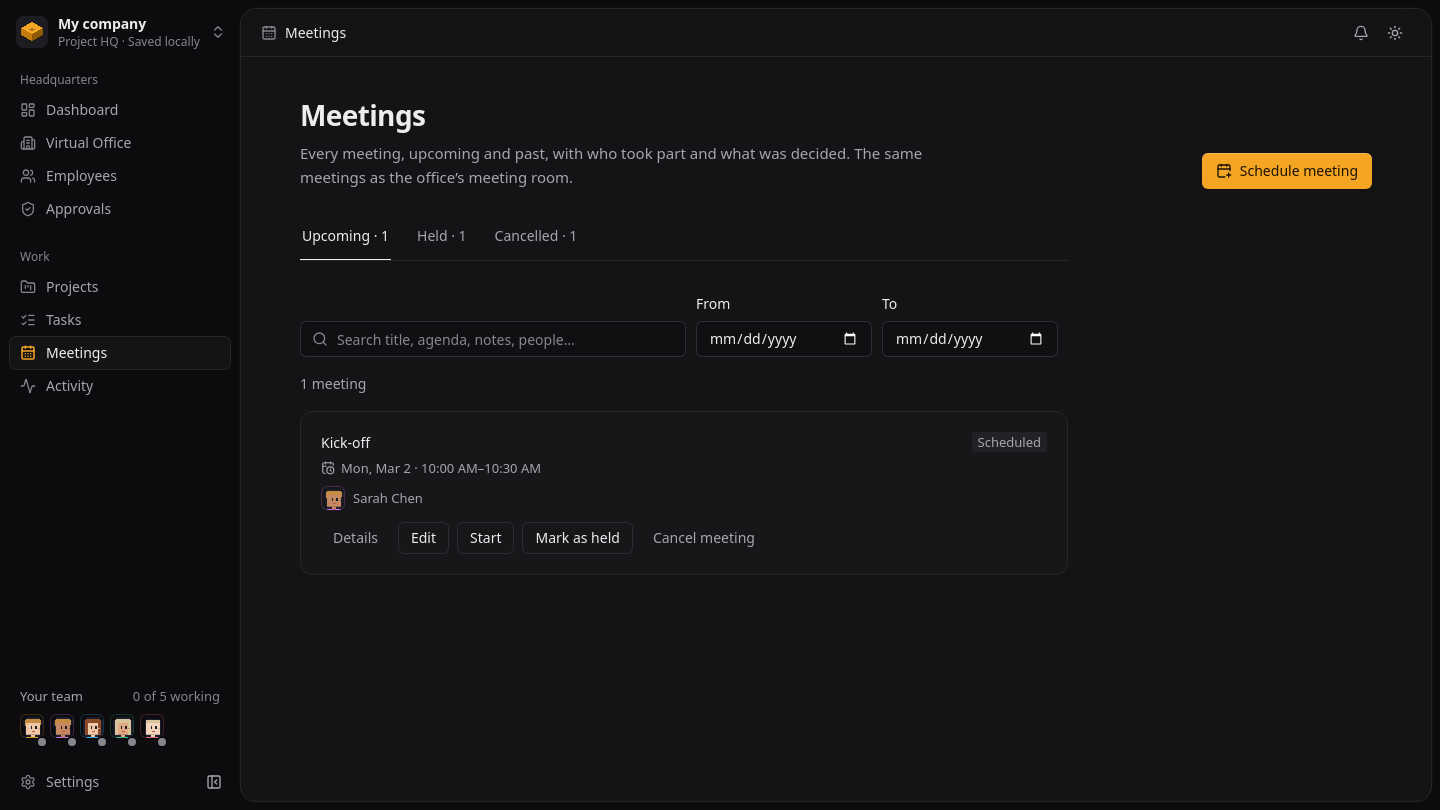
meetings page (Phase 1.8) › lists upcoming, held and cancelled meetings in their own tabs
expect the tab "Upcoming · 1" is shown: met, box [300,221,391,261]
expect the text "Kick-off" is shown: met, box [321,432,370,454]
What coordinates should you click on to do the following:
click the tab "Held · 1"
I would click on:
 (442, 241)
Its box is [415,221,468,261].
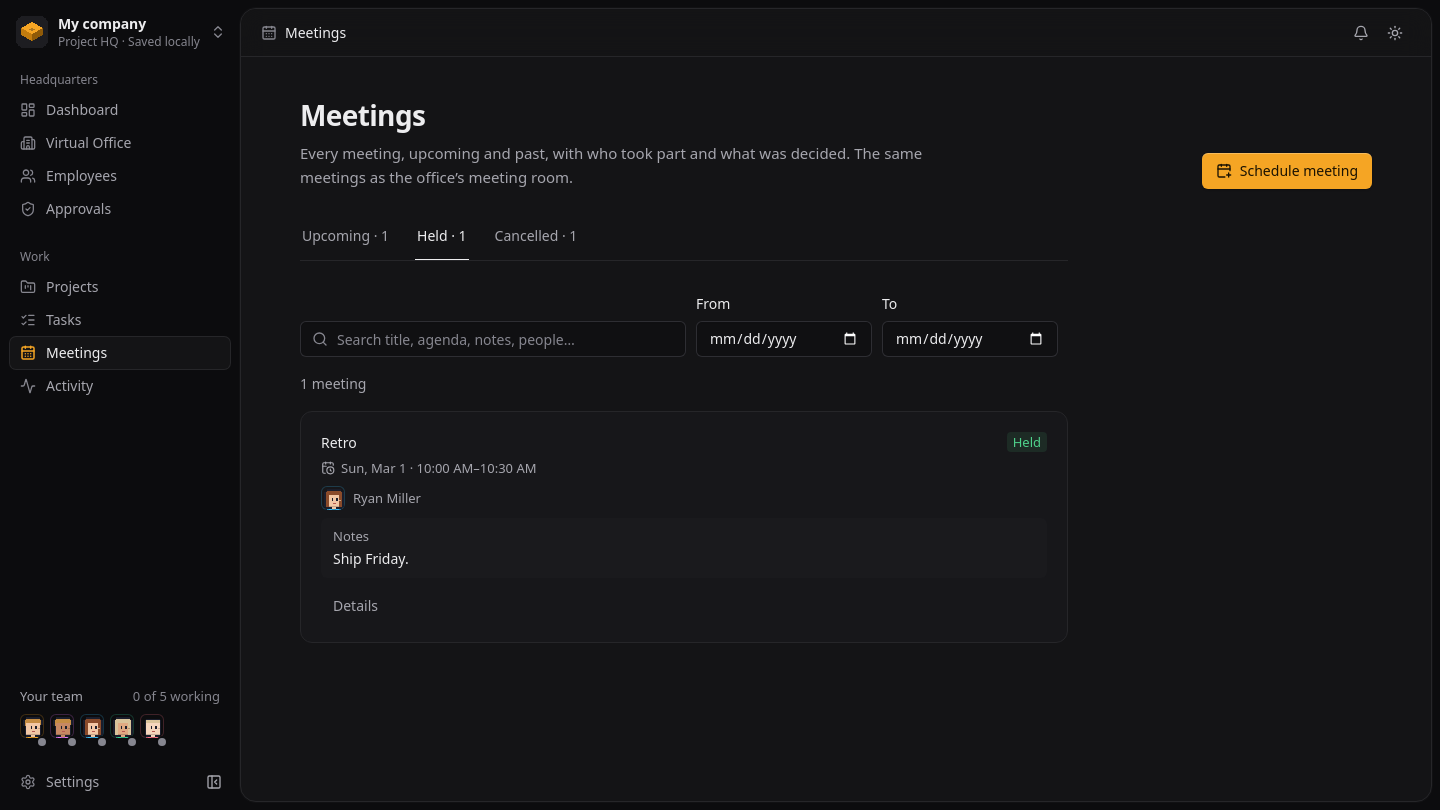
expect the text "Retro" is shown: met, box [321,432,357,454]
expect the text "Ship Friday." is shown: met, box [333,549,409,568]
What coordinates should you click on to do the following:
click the tab "Cancelled · 1"
I would click on:
 (536, 241)
Its box is [493,221,579,261].
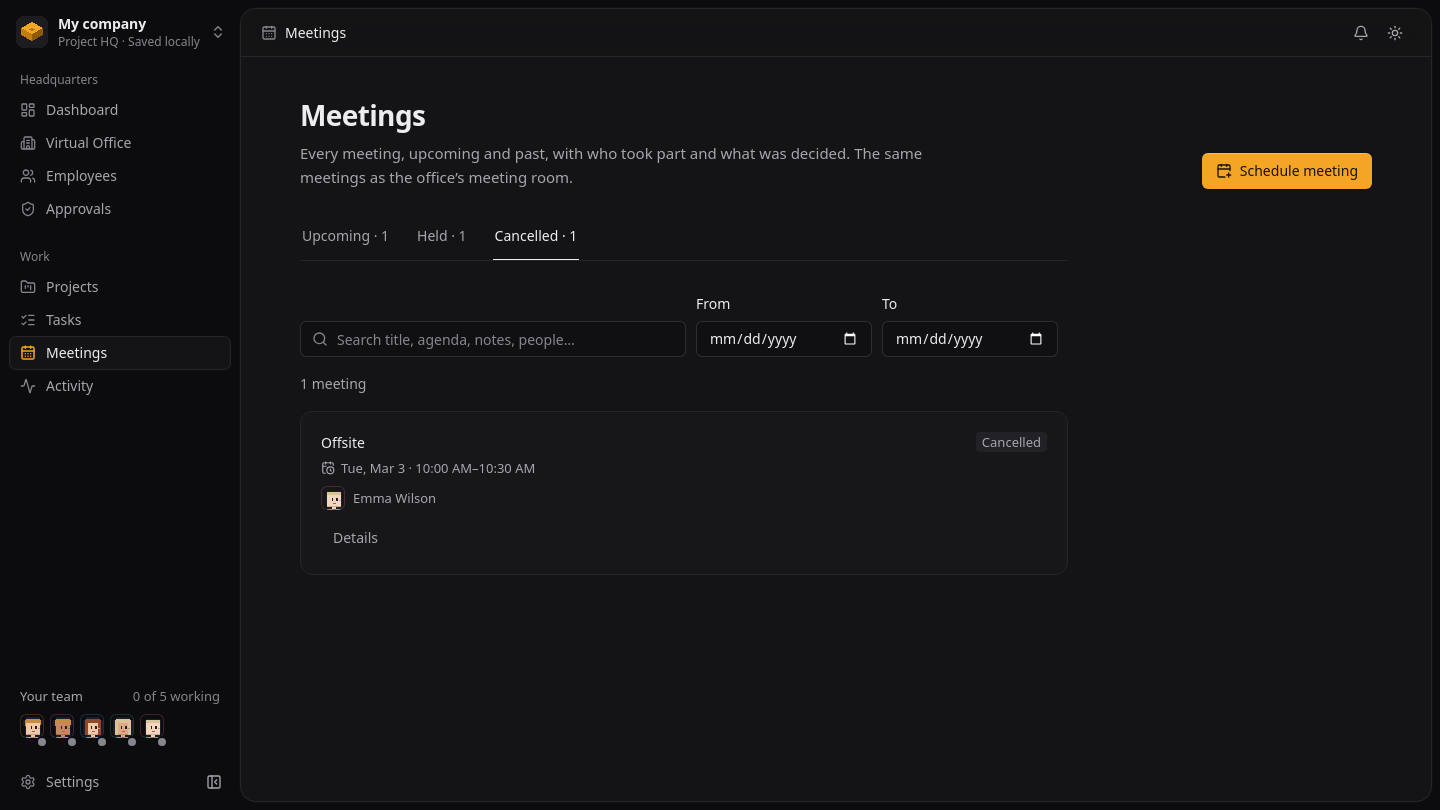
expect the text "Offsite" is shown: met, box [321,432,365,454]
